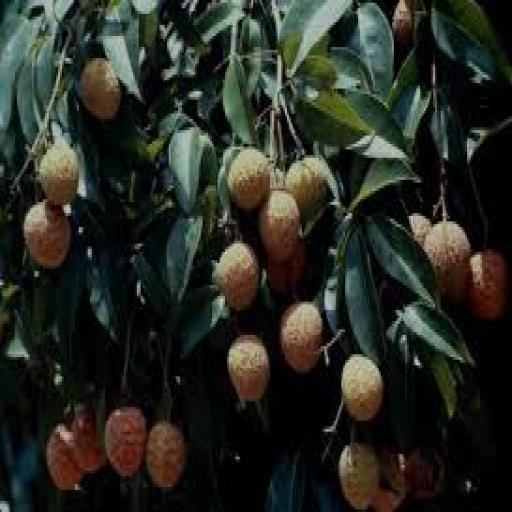lychee: (424, 222, 470, 304), (23, 200, 71, 268), (467, 250, 510, 321), (259, 189, 300, 262), (280, 302, 322, 373), (216, 241, 258, 309), (227, 335, 270, 401), (106, 407, 146, 476), (342, 355, 384, 420), (227, 147, 270, 210), (338, 443, 378, 509), (79, 59, 121, 121), (38, 139, 78, 204), (147, 421, 185, 489), (286, 155, 326, 218), (46, 424, 82, 489), (72, 407, 106, 473), (267, 241, 305, 293), (372, 452, 405, 511), (406, 449, 444, 498), (392, 0, 414, 47), (409, 214, 431, 246)
